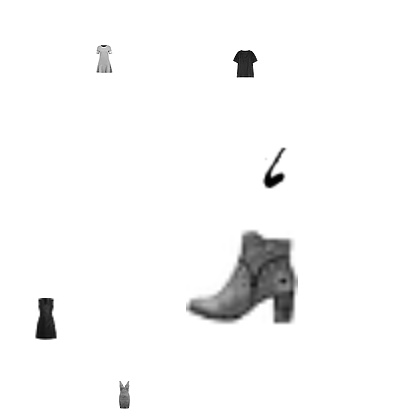6: (245, 146, 301, 202)
Ankle_boot: (186, 219, 298, 331)
Dress: (25, 298, 67, 340), (110, 381, 138, 409), (90, 45, 118, 73)
Shirt: (231, 50, 259, 78)
